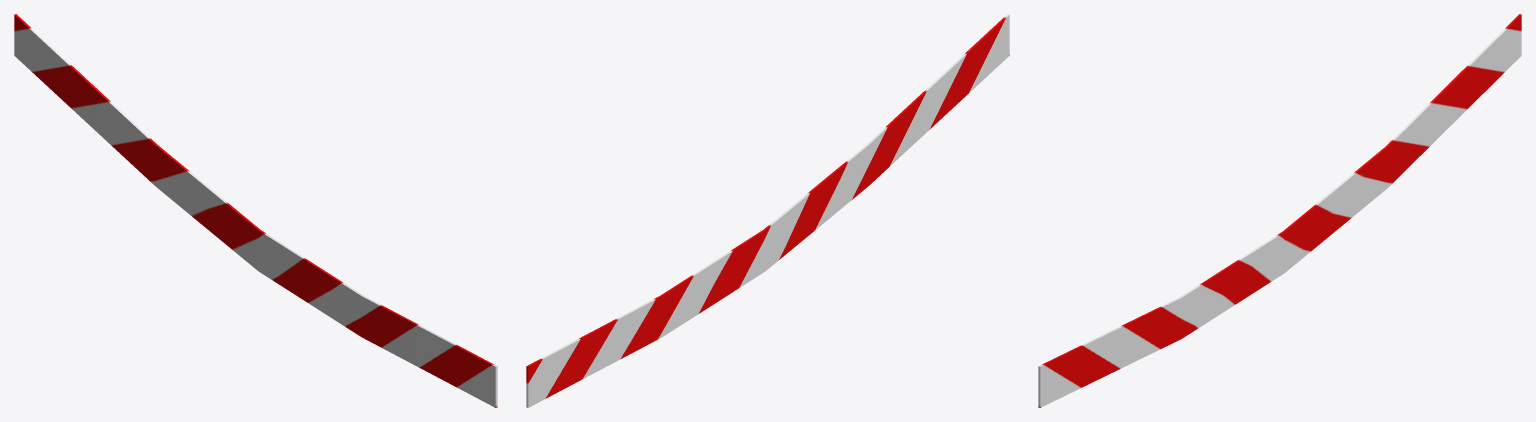
Rendered from Tape_1_1.glb.
The picture shows the model from 3 angles, left to right: view 1: azimuth 30°, elevation 25°; view 2: azimuth 150°, elevation 25°; view 3: azimuth 330°, elevation 25°; orthographic projection.
Visible parts, largest first — view 1: Tape_1_1; view 2: Tape_1_1; view 3: Tape_1_1.
Boxes of the visible parts, <box> form: Tape_1_1: <box>14,14,497,407</box>; Tape_1_1: <box>526,14,1009,407</box>; Tape_1_1: <box>1038,14,1521,407</box>.
Bounding box in the file's own units: 0.0277 × 0.3746 × 4.
Materials: 1 (1 with a texture image).
